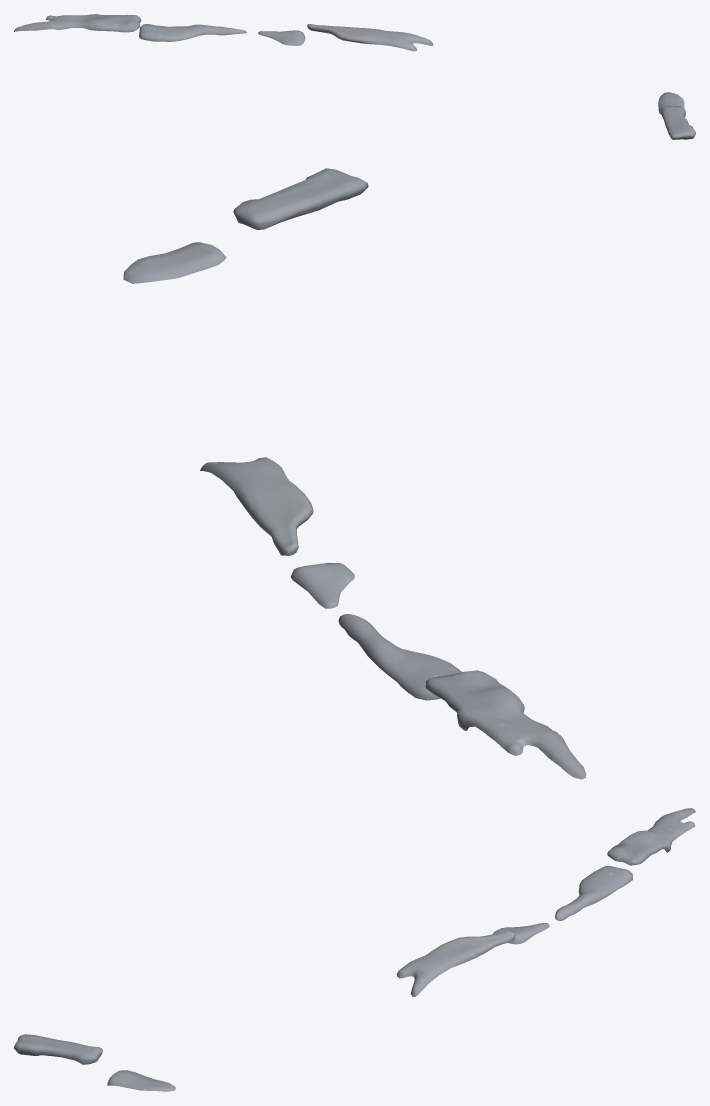
The model's file is pref_sm_beach_winter_snow09_lv3.fbx.
The picture shows the model from 3 angles, top to bottom: view 1: azimuth 30°, elevation 25°; view 2: azimuth 150°, elevation 25°; view 3: azimuth 270°, elevation 25°; orthographic projection. The views are drawn at different scales.
Visible parts, largest first — view 1: pref_sm_beach_winter_snow09_lv3; view 2: pref_sm_beach_winter_snow09_lv3; view 3: pref_sm_beach_winter_snow09_lv3.
Part boxes in pixels (left/top/right/bottom): pref_sm_beach_winter_snow09_lv3: left=14, top=14, right=695, bottom=139; pref_sm_beach_winter_snow09_lv3: left=123, top=168, right=586, bottom=779; pref_sm_beach_winter_snow09_lv3: left=14, top=808, right=695, bottom=1091.
Bounding box in the file's own units: 14.71 × 0.8443 × 15.96.
